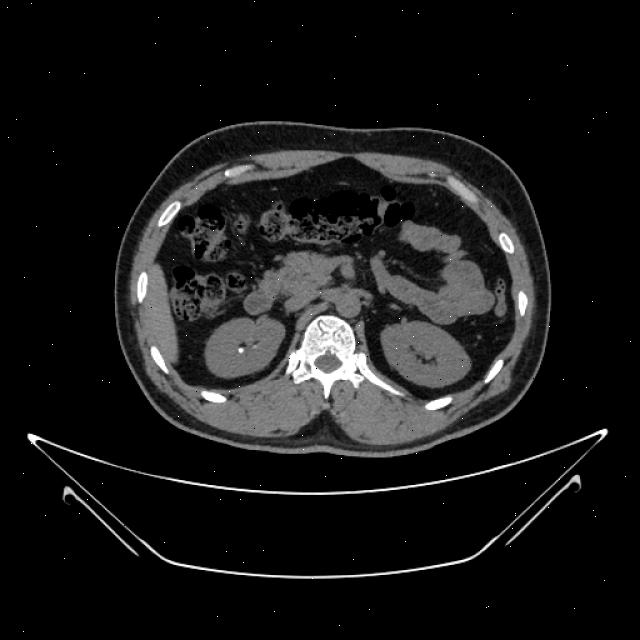kidneystone: (238, 348, 244, 353)
